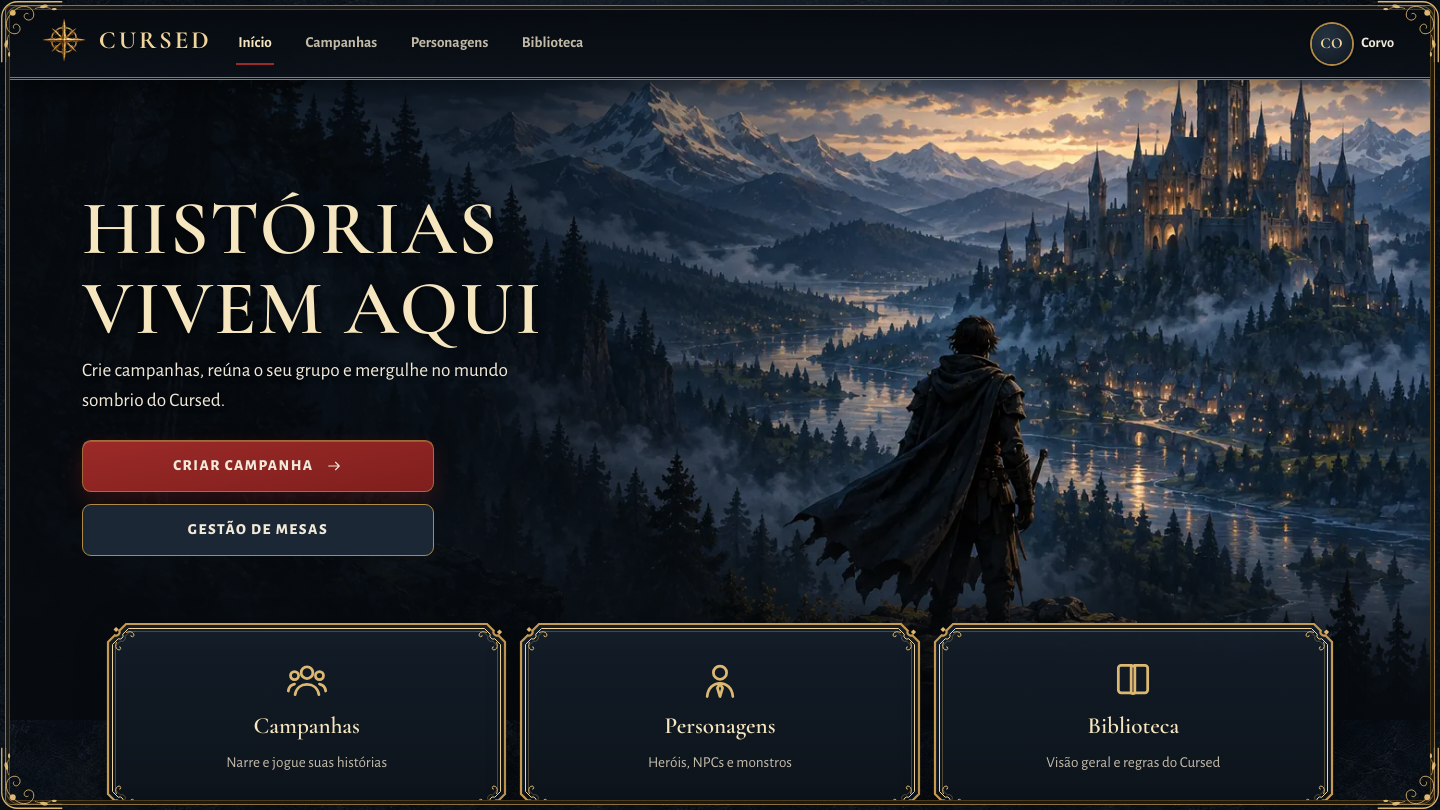
Test: navegação inicial › Início (6.1) › Criar campanha pede o nome e abre a campanha em Narrando
This screenshot has width=1440, height=810.
Click the button "Criar campanha" at (258, 466), box [82,440,434,492]
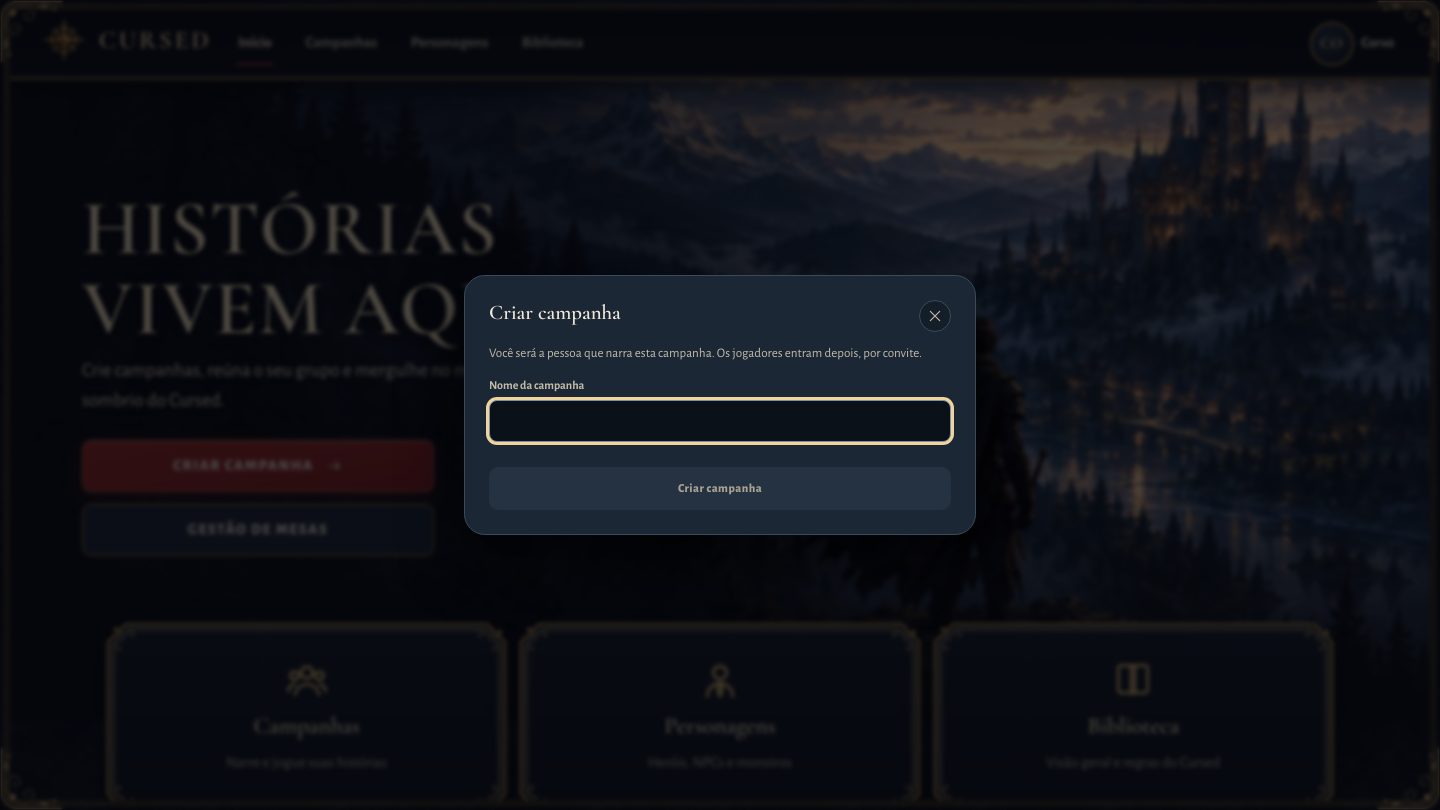
Type "Cinzas do Norte" into the field labelled "Nome da campanha" at (720, 421), box [489,400,951,442]
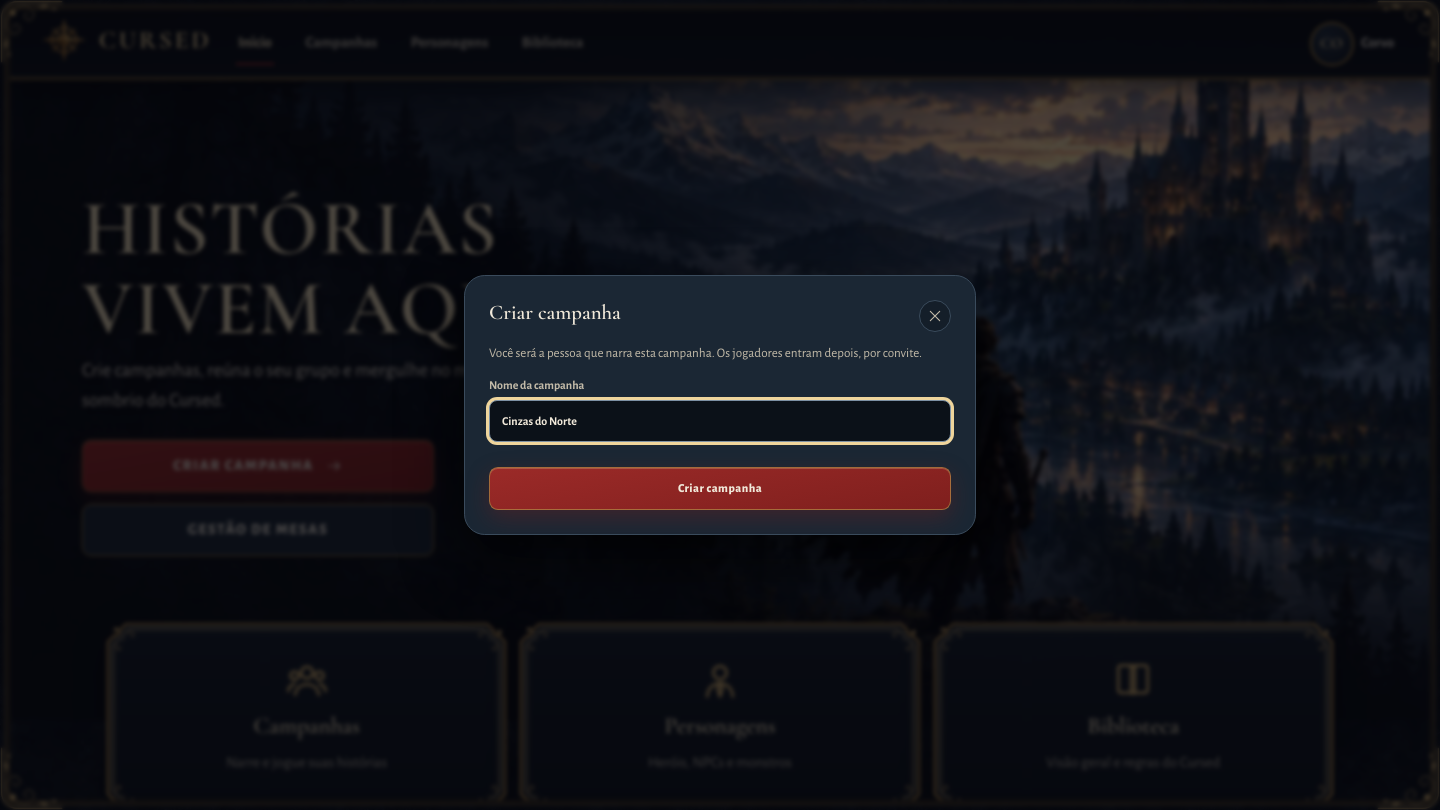
Click the button "Criar campanha" at (720, 489), box [489,467,951,510]
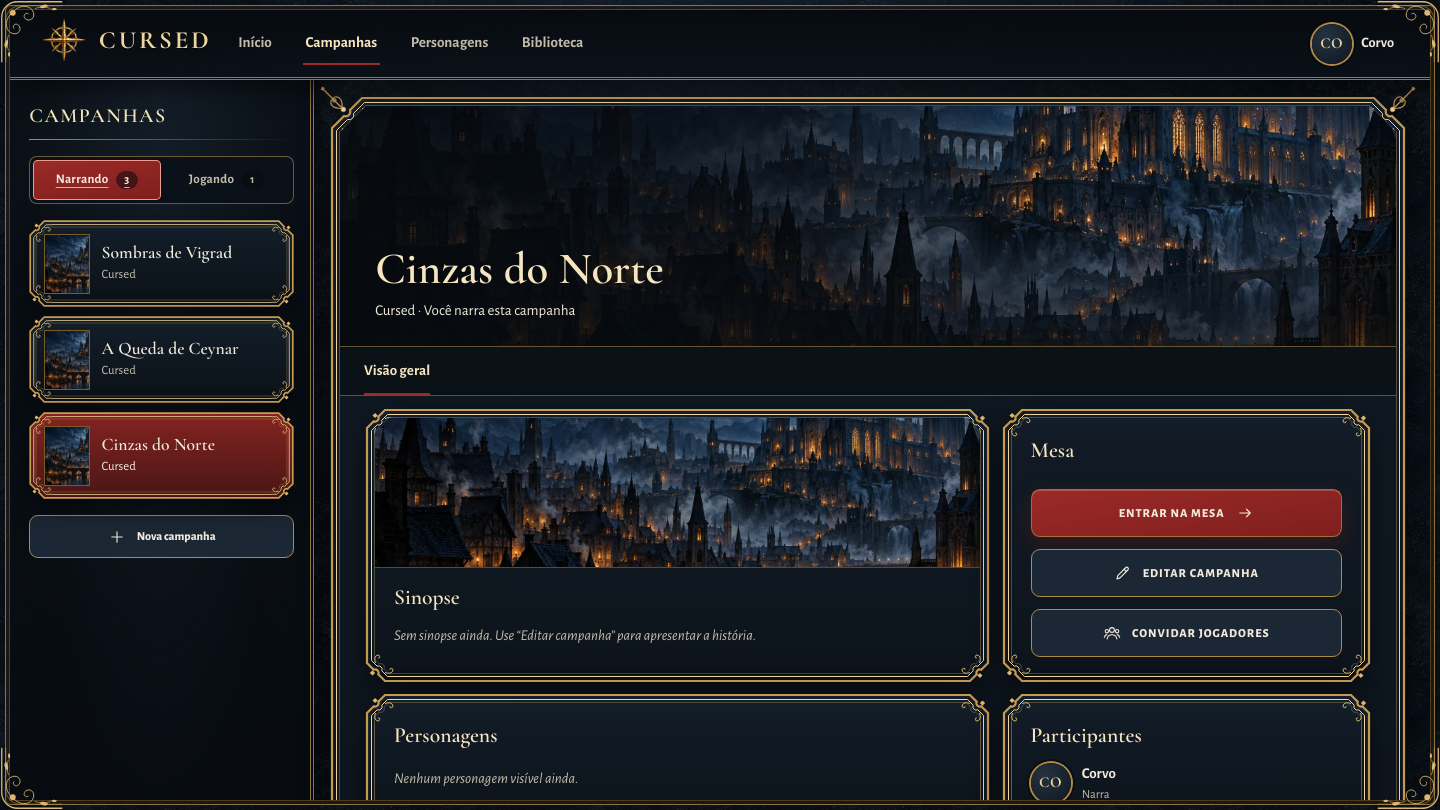
expect the heading "Cinzas do Norte" is shown: met, box [375,242,664,296]
